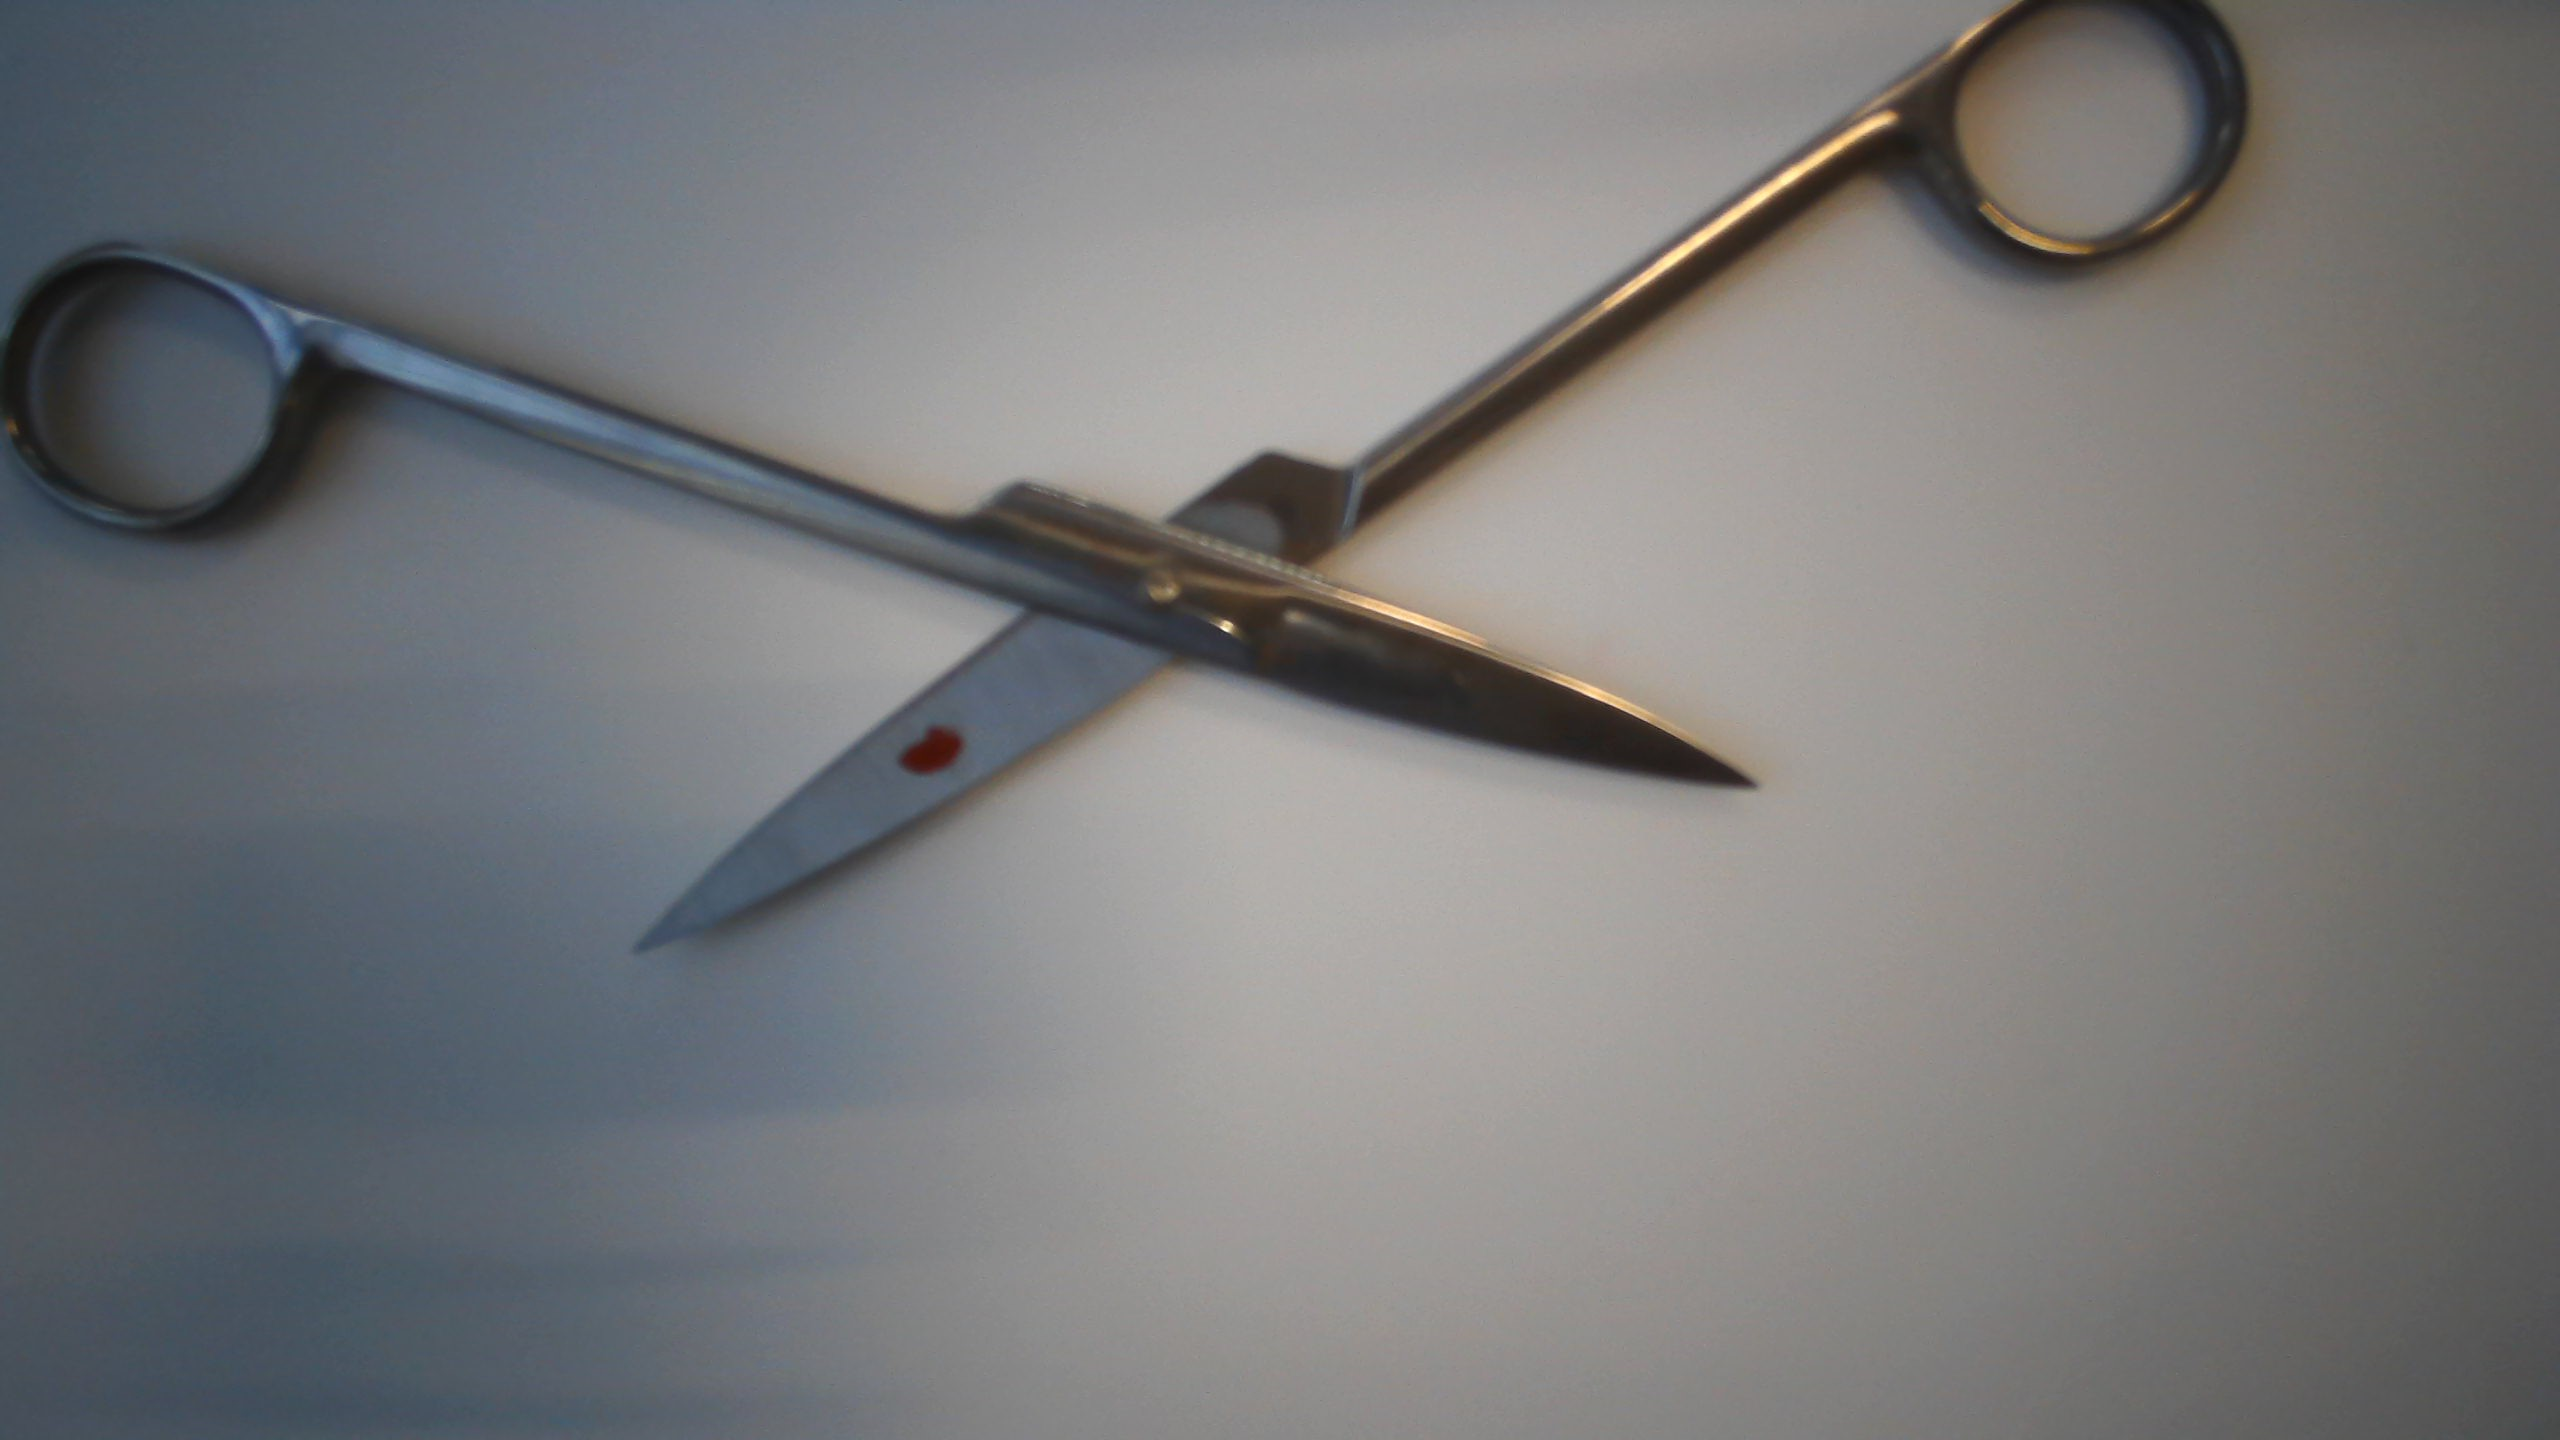Stain: (899, 720, 972, 779)
